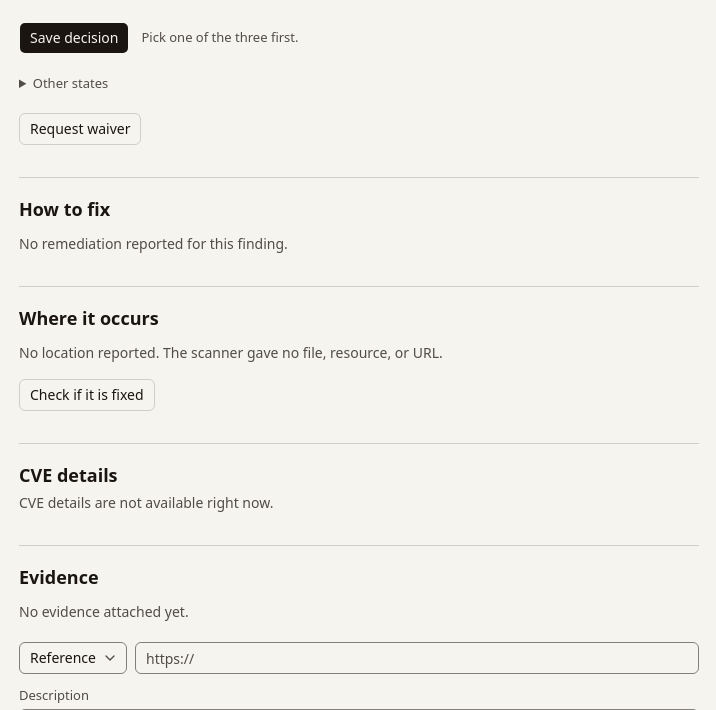
Test case: the finding page's fix check › reports an inconclusive check without a detail line when the server sends none
The image size is (716, 710).
(page scrolled)
Click the button "Check if it is fixed".
click(87, 396)  # box [19,380,155,412]
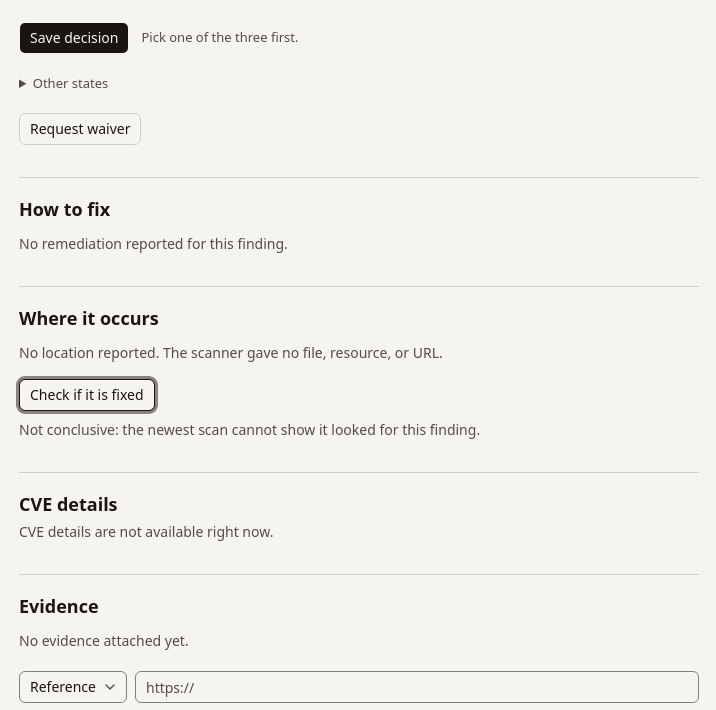
Now the message reads "Not conclusive: the newest scan cannot show it looked for this finding.", box [19,420,480,440]
